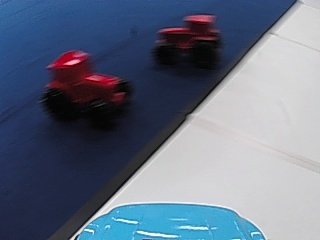tractor: (39, 47, 133, 124), (155, 11, 223, 69)
